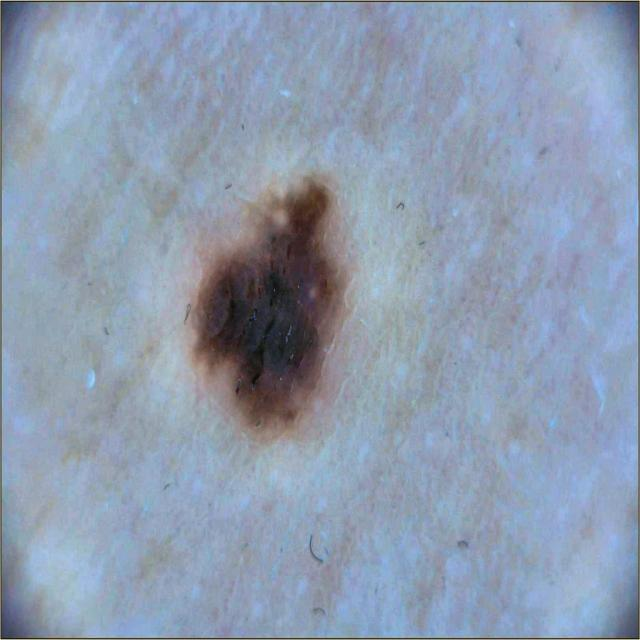Melanocytic-Nevi-NV-: (191, 178, 346, 443)
